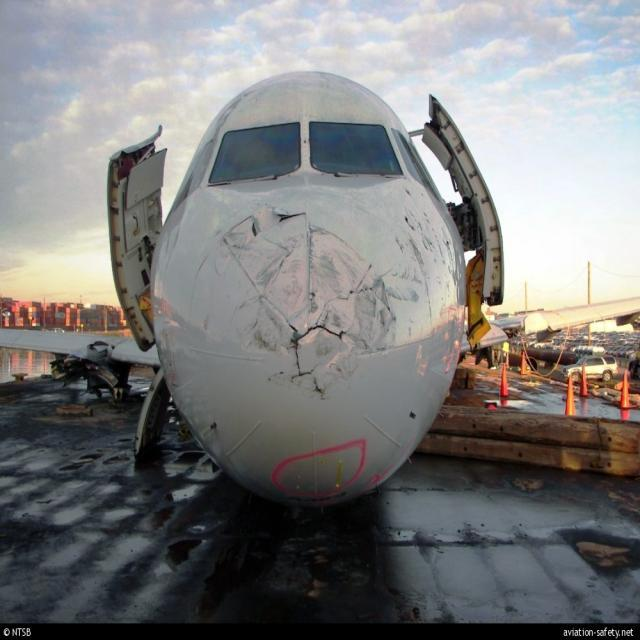crack: (220, 204, 398, 406)
